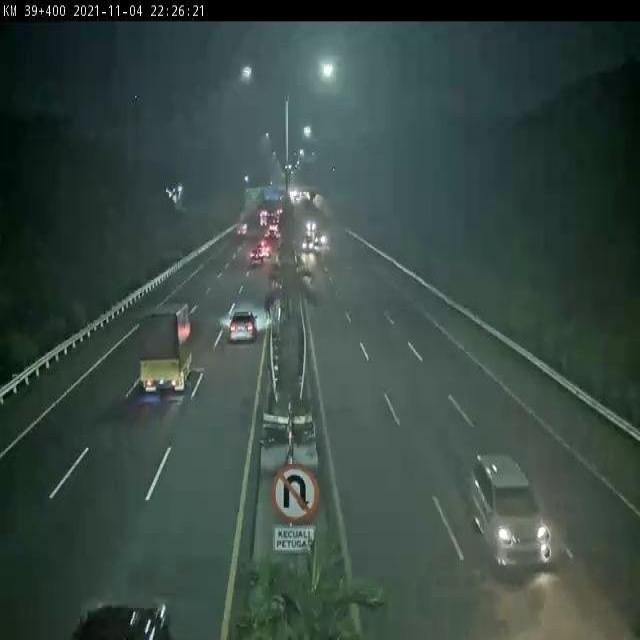car: (470, 452, 553, 568), (76, 601, 170, 639), (229, 309, 257, 340), (250, 248, 264, 263), (302, 236, 314, 251), (314, 233, 327, 246), (258, 243, 270, 257)
truck-m-: (137, 304, 196, 395)
